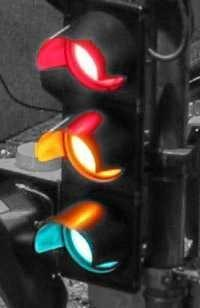5: (40, 12, 134, 112)
9: (32, 110, 130, 198)
red traffic light: (34, 198, 125, 284)
